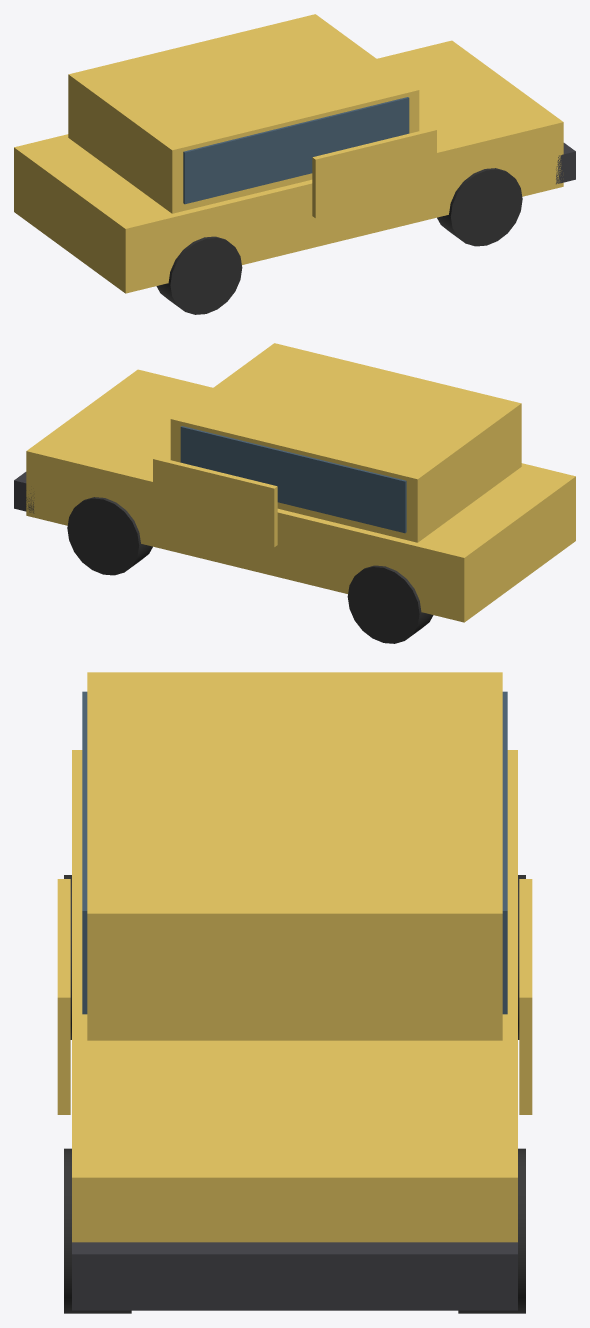
The model's file is hatch.glb.
3 views of the same model, one above another, from view 1: azimuth 30°, elevation 25°; view 2: azimuth 150°, elevation 25°; view 3: azimuth 270°, elevation 25° (orthographic). The views are drawn at different scales.
Parts seen in each view (by area): view 1: body, cabin, glass, door_L, wheel_2, wheel_0, bumperF; view 2: body, cabin, glass, door_R, wheel_3, wheel_1, bumperF; view 3: cabin, body, bumperF, glass, door_L, door_R, wheel_0, wheel_1.
Part boxes in pixels (bbox=[...]): body: bbox=[14, 40, 563, 293]; cabin: bbox=[68, 14, 419, 213]; glass: bbox=[183, 97, 409, 204]; door_L: bbox=[312, 127, 436, 218]; wheel_2: bbox=[156, 236, 242, 314]; wheel_0: bbox=[437, 168, 522, 246]; bumperF: bbox=[556, 143, 575, 184]; body: bbox=[26, 369, 575, 622]; cabin: bbox=[170, 343, 521, 542]; glass: bbox=[180, 426, 406, 533]; door_R: bbox=[153, 456, 277, 547]; wheel_3: bbox=[347, 565, 433, 643]; wheel_1: bbox=[67, 497, 152, 575]; bumperF: bbox=[14, 472, 34, 513]; cabin: bbox=[87, 672, 502, 1040]; body: bbox=[72, 750, 517, 1242]; bumperF: bbox=[72, 1242, 517, 1310]; glass: bbox=[82, 691, 507, 1014]; door_L: bbox=[57, 879, 70, 1114]; door_R: bbox=[519, 879, 532, 1114]; wheel_0: bbox=[64, 1148, 131, 1313]; wheel_1: bbox=[458, 1148, 525, 1313].
Bounding box in the file's own units: 4.01 × 1.41 × 1.83.
